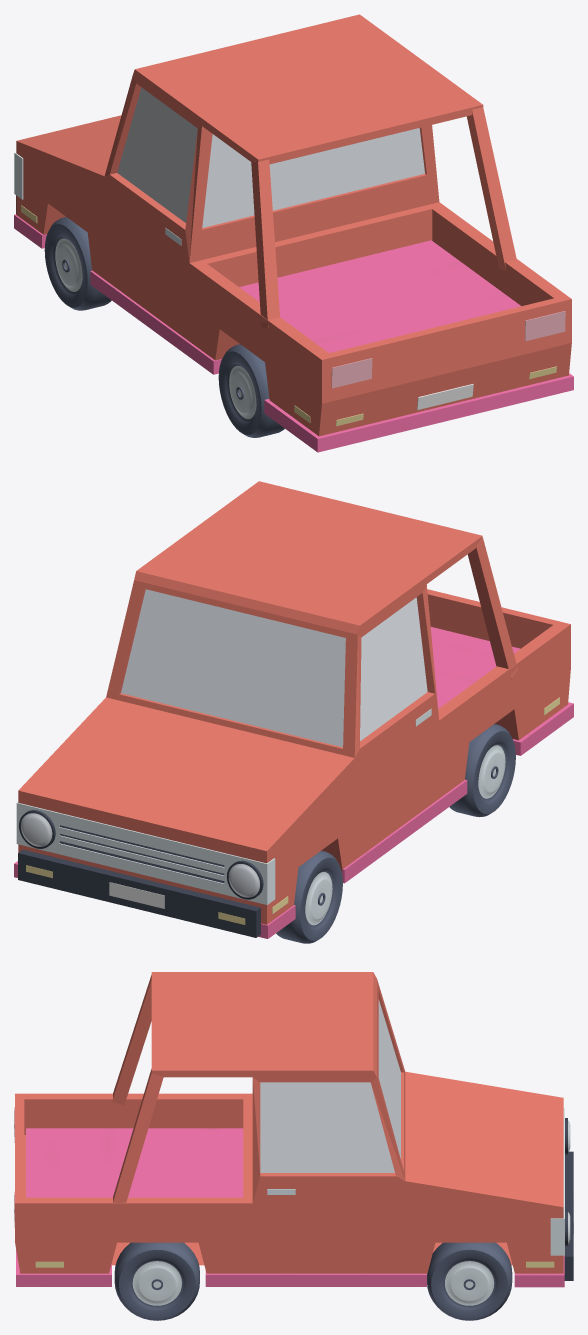
The model's file is car3.glb.
The picture shows the model from 3 angles, top to bottom: view 1: azimuth 30°, elevation 25°; view 2: azimuth 150°, elevation 25°; view 3: azimuth 270°, elevation 25°; orthographic projection. The views are drawn at different scales.
Parts seen in each view (by area): view 1: Cube_2_3, Cube, Cube_1, Cylinder_1_2, Cylinder_7, Cube_1_2, Cube_2_2, Cube_2, Cube_12, Cube_11, Cube_10; view 2: Cube_2_3, Cube_3_2, Cube_4, Cylinder_1_2, Cylinder_7, Cube, Cube_1_2, Cube_2, Cylinder_2_3, Cylinder_2, Cube_1, Cube_5 (+1 smaller); view 3: Cube_2_3, Cube, Cylinder_5, Cylinder_6, Cube_2, Cube_2_2, Cube_1_2, Cube_1, Cube_4, Cube_3, Cube_3_2.
Part boxes in pixels (x1=…): Cube_2_3: x1=16, y1=14, x2=571, y2=436; Cube: x1=239, y1=240, x2=520, y2=352; Cube_1: x1=264, y1=373, x2=573, y2=452; Cylinder_1_2: x1=218, y1=344, x2=284, y2=437; Cylinder_7: x1=44, y1=217, x2=111, y2=310; Cube_1_2: x1=251, y1=159, x2=279, y2=327; Cube_2_2: x1=466, y1=107, x2=516, y2=269; Cube_2: x1=90, y1=270, x2=221, y2=374; Cube_12: x1=331, y1=358, x2=372, y2=388; Cube_11: x1=525, y1=311, x2=565, y2=341; Cube_10: x1=417, y1=384, x2=473, y2=409; Cube_2_3: x1=18, y1=481, x2=570, y2=924; Cube_3_2: x1=16, y1=802, x2=275, y2=904; Cube_4: x1=18, y1=849, x2=260, y2=937; Cylinder_1_2: x1=449, y1=724, x2=515, y2=817; Cylinder_7: x1=276, y1=850, x2=342, y2=943; Cube: x1=430, y1=627, x2=520, y2=708; Cube_1_2: x1=467, y1=538, x2=517, y2=678; Cube_2: x1=341, y1=779, x2=467, y2=883; Cylinder_2_3: x1=226, y1=860, x2=263, y2=899; Cylinder_2: x1=19, y1=810, x2=55, y2=848; Cube_1: x1=513, y1=702, x2=573, y2=755; Cube_5: x1=109, y1=882, x2=164, y2=908; Cube_2_3: x1=15, y1=972, x2=563, y2=1274; Cube: x1=26, y1=1128, x2=243, y2=1197; Cylinder_5: x1=114, y1=1242, x2=199, y2=1320; Cylinder_6: x1=427, y1=1242, x2=512, y2=1320; Cube_2: x1=205, y1=1271, x2=426, y2=1286; Cube_2_2: x1=113, y1=1069, x2=163, y2=1202; Cube_1_2: x1=112, y1=975, x2=151, y2=1105; Cube_1: x1=16, y1=1249, x2=111, y2=1286; Cube_4: x1=564, y1=1151, x2=573, y2=1280; Cube_3: x1=514, y1=1255, x2=564, y2=1287; Cube_3_2: x1=550, y1=1108, x2=564, y2=1255.
Size of the model in its own units: 1.55 by 1.58 by 3.24.
Materials: 9 (3 with a texture image).
